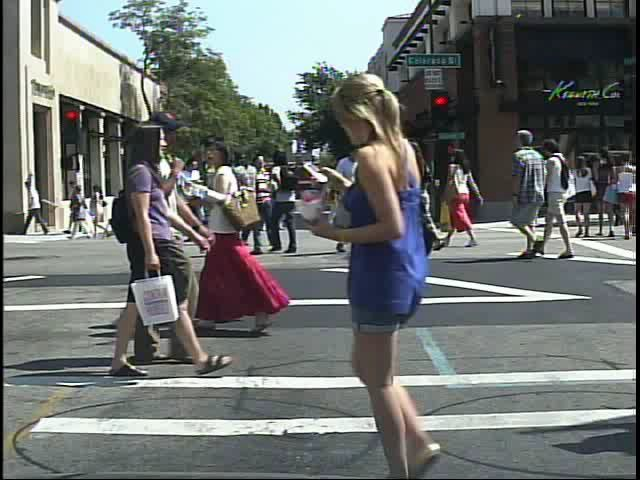person: (316, 69, 519, 479), (99, 107, 223, 384), (193, 134, 285, 338), (155, 107, 218, 369), (204, 133, 248, 334), (397, 134, 447, 262), (507, 125, 552, 261), (335, 138, 379, 257), (228, 138, 270, 261), (539, 135, 576, 260), (451, 145, 491, 256), (267, 150, 308, 257), (243, 149, 284, 248), (205, 152, 243, 250), (172, 155, 211, 250), (567, 148, 600, 242), (150, 173, 171, 242), (69, 182, 89, 232)
